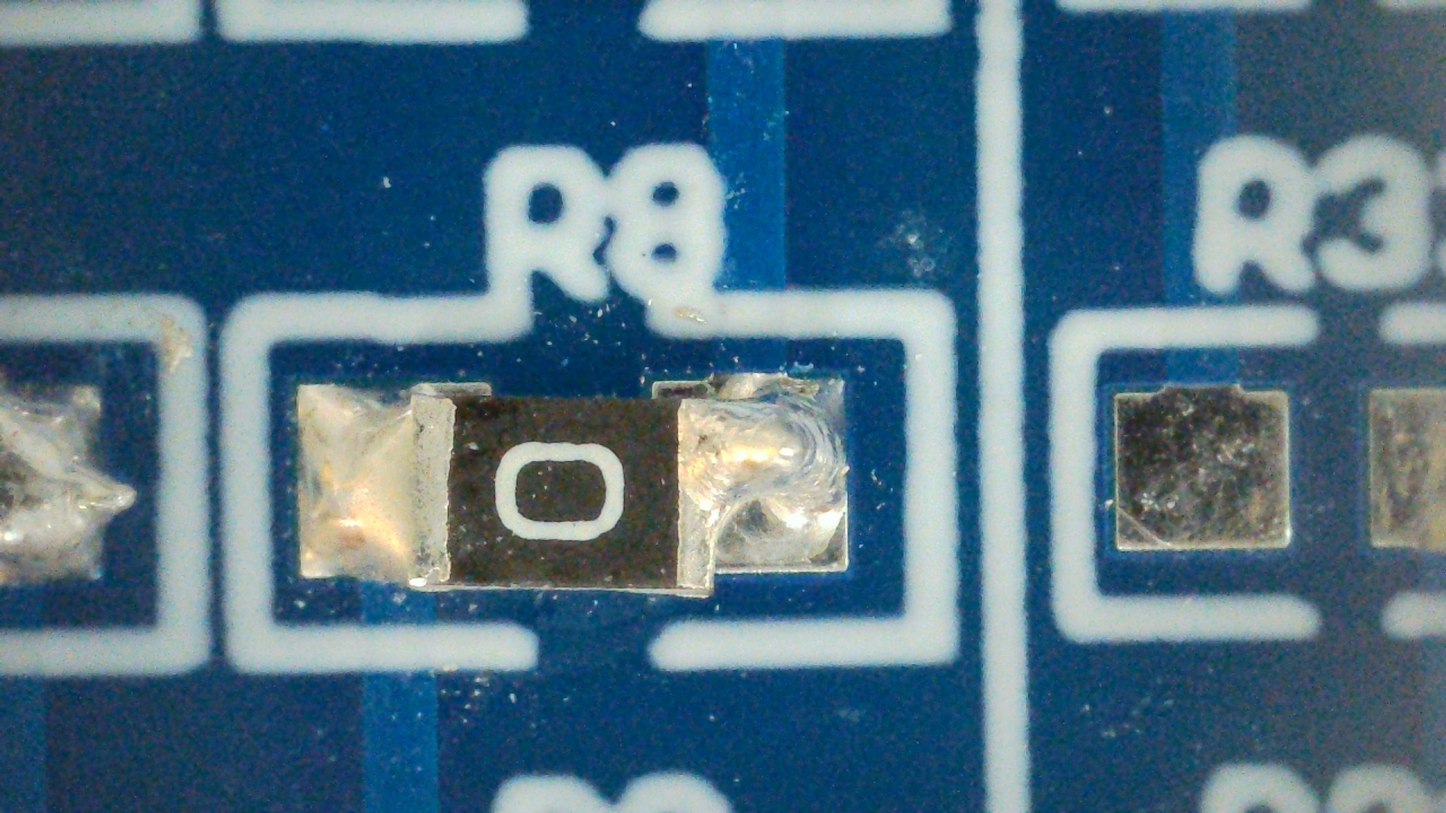NG: (296, 373, 847, 598)
